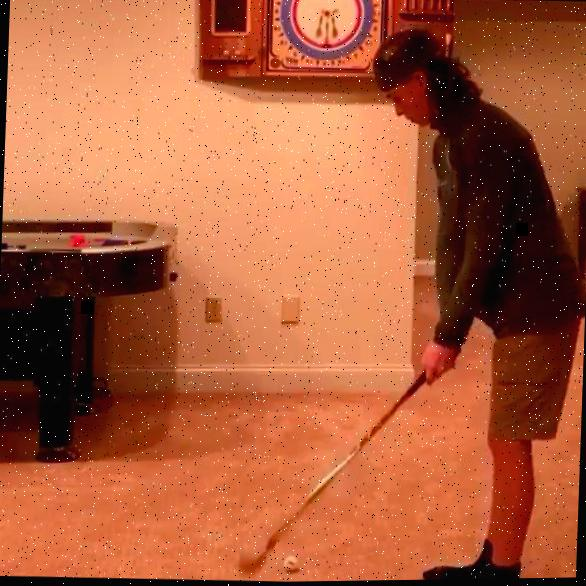ClubHead: (237, 550, 266, 578)
GolfBall: (281, 555, 300, 575)
